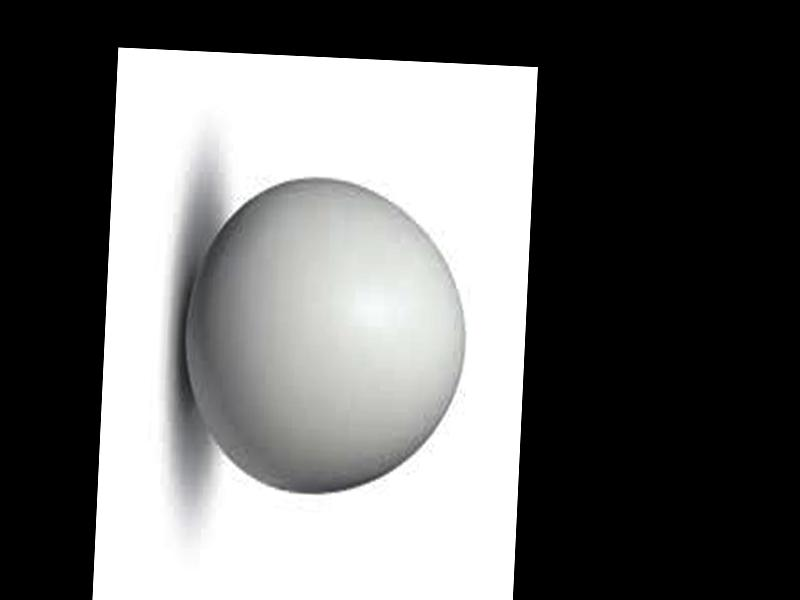Eggs: (179, 173, 474, 495)
